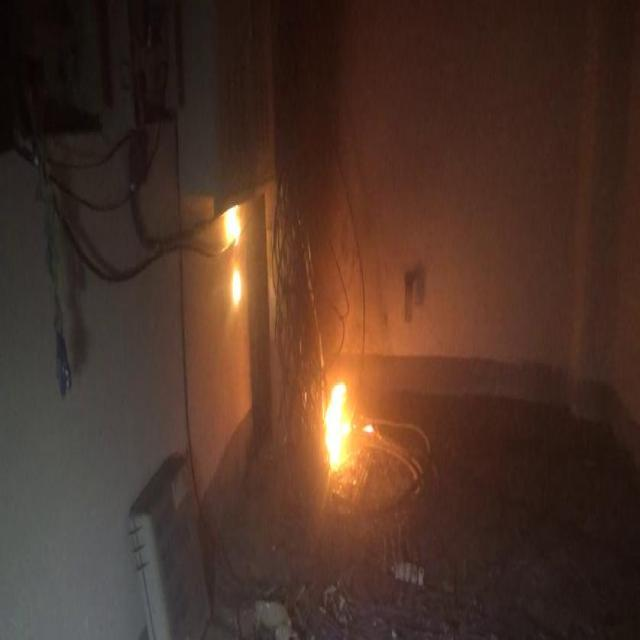Fire: (324, 378, 356, 471), (222, 202, 246, 308)
